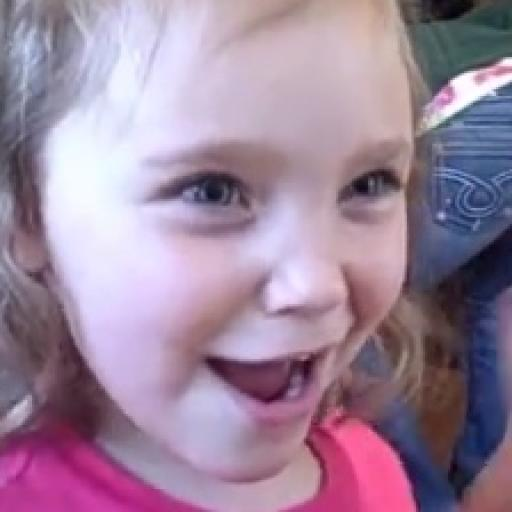Autism: (0, 0, 457, 470)
